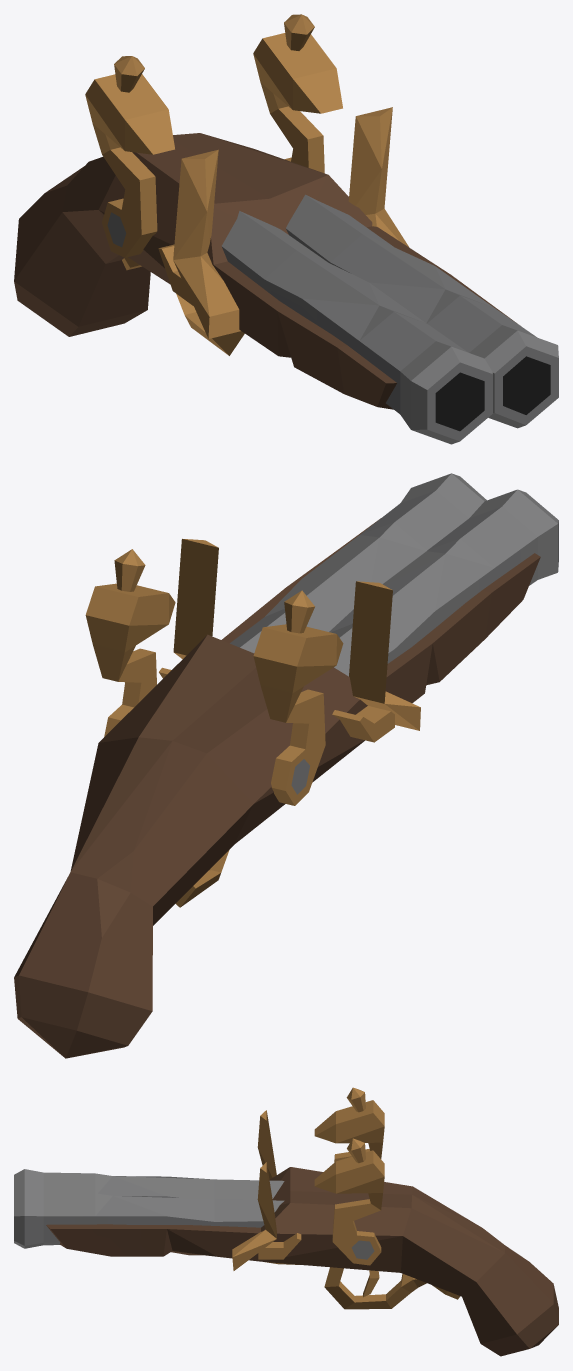
File: SM_Wep_MusketPistol_DoubleBarrel_02_Separate.glb
3 renders of one model, top to bottom at view 1: azimuth 30°, elevation 25°; view 2: azimuth 150°, elevation 25°; view 3: azimuth 270°, elevation 25°, orthographic. The views are drawn at different scales.
Parts seen in each view (by area): view 1: SM_Wep_MusketPistol_DoubleBarrel_02_Trigger_L; view 2: SM_Wep_MusketPistol_DoubleBarrel_02_Trigger_L; view 3: SM_Wep_MusketPistol_DoubleBarrel_02_Trigger_L.
Part boxes in pixels (x1,y1,x2,y2): SM_Wep_MusketPistol_DoubleBarrel_02_Trigger_L: (14, 14, 558, 444); SM_Wep_MusketPistol_DoubleBarrel_02_Trigger_L: (14, 473, 558, 1058); SM_Wep_MusketPistol_DoubleBarrel_02_Trigger_L: (14, 1087, 558, 1356).
Size of the model in its own units: 0.00142 by 0.00246 by 0.00517.
